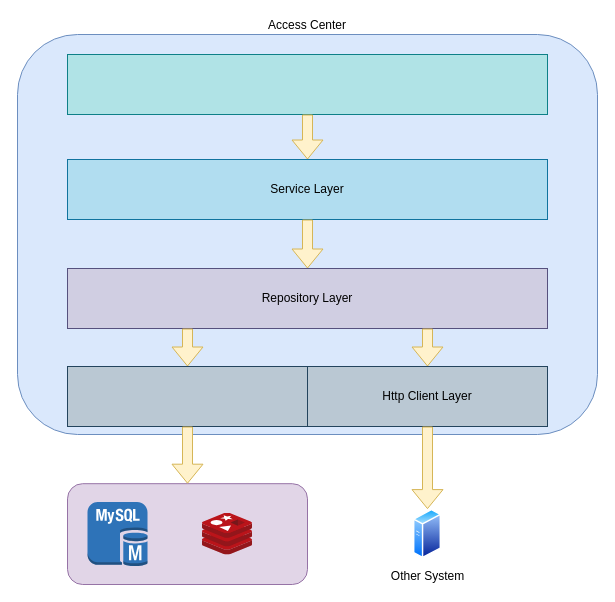
The diagram is 615 pixels wide and 602 high, and some of its shapes have lost their labels. Here are the shapes that lost their labels. From the top down, the box of each, then its label:
(66, 54, 548, 114): Controller Layer
(66, 366, 308, 426): DAO Layer
